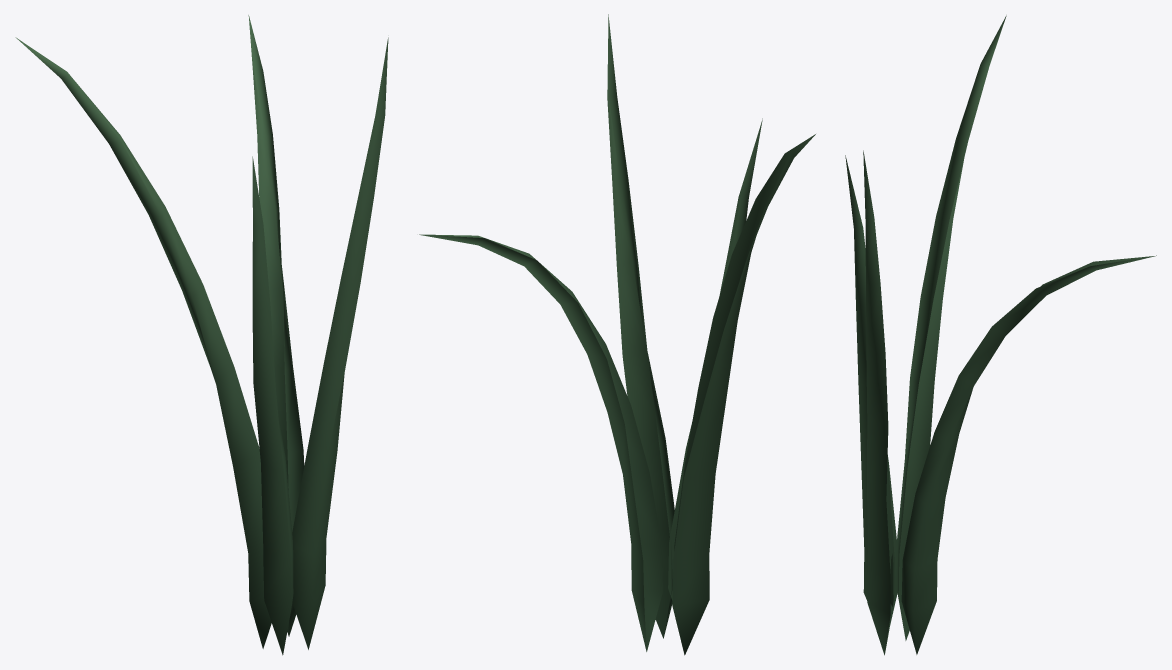
Rendered from trees-grasses-grass-blades_v4.glb.
3 views of the same model, side by side, from view 1: azimuth 30°, elevation 25°; view 2: azimuth 150°, elevation 25°; view 3: azimuth 270°, elevation 25° (orthographic). The views are drawn at different scales.
Parts seen in each view (by area): view 1: Grass Blades_v4; view 2: Grass Blades_v4; view 3: Grass Blades_v4.
Part boxes in pixels (bbox=[...]): Grass Blades_v4: bbox=[15, 15, 388, 655]; Grass Blades_v4: bbox=[419, 14, 815, 655]; Grass Blades_v4: bbox=[845, 15, 1156, 655].
Size of the model in its own units: 0.1623 by 0.3 by 0.1559.
